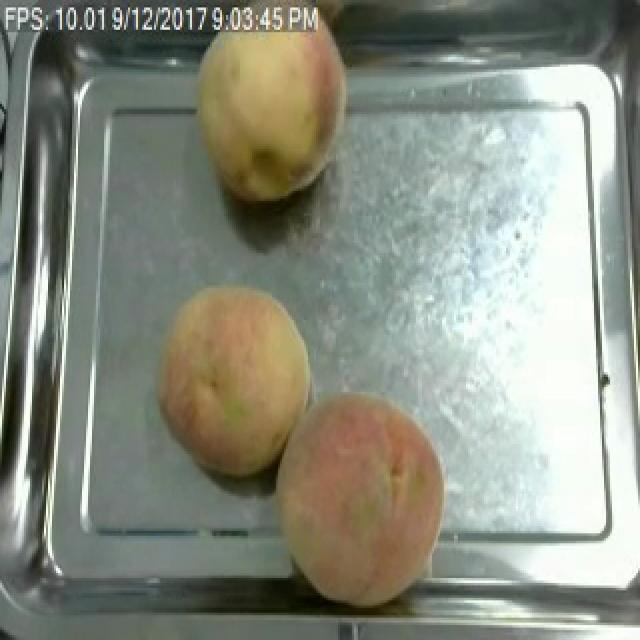Fruit: (266, 382, 456, 613), (148, 273, 322, 479), (188, 10, 360, 211)
